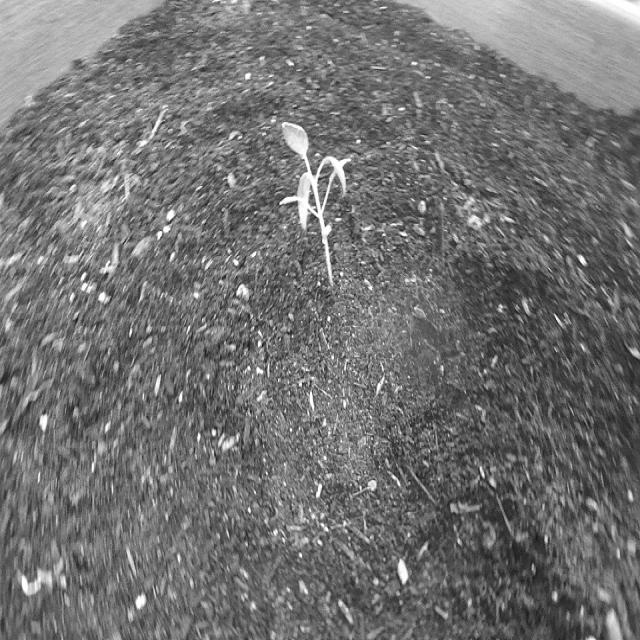Healthy: (270, 100, 357, 302)
